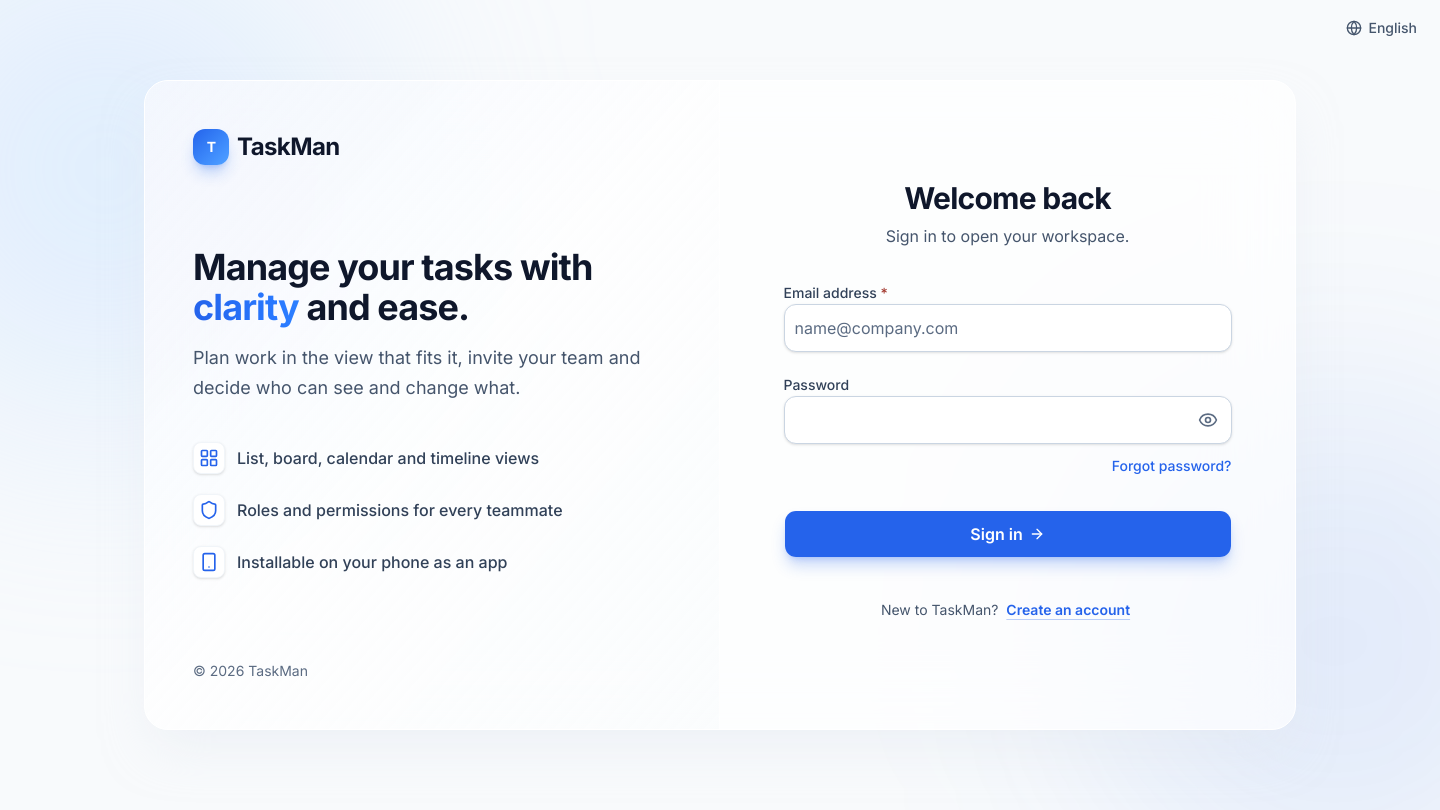
Test: AuthPage: second step › switches between the app code and a recovery code
The width and height of the screenshot is (1440, 810).
Type "ada@example.com" into the field labelled "Email address *". click: (1008, 328)
box: [784,304,1232,352]
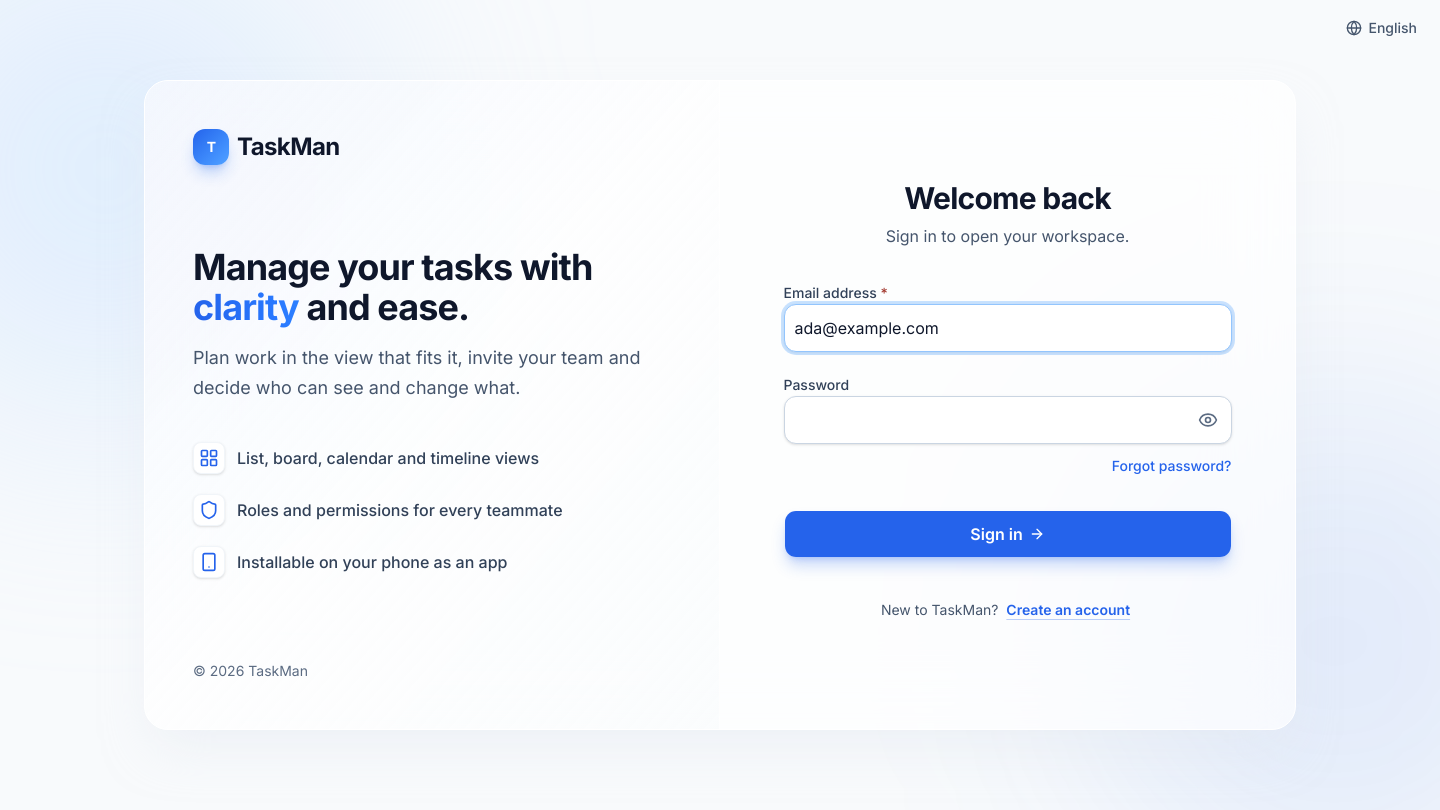
Type "analytical-engine" into the password field labelled "Password". click: (1008, 420)
box: [784,396,1232,444]
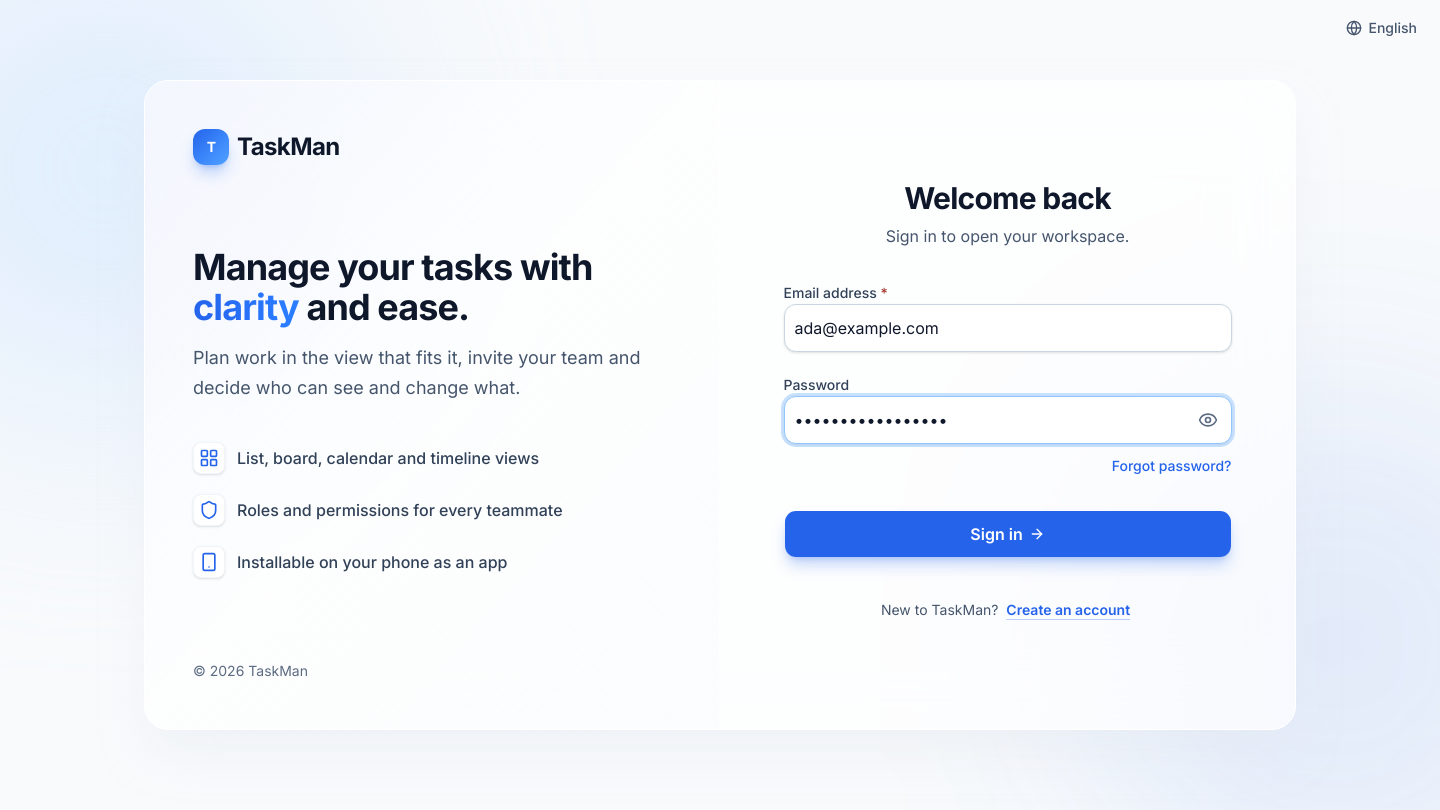
Click the button "Sign in". click: (1008, 534)
box: [784,510,1232,558]
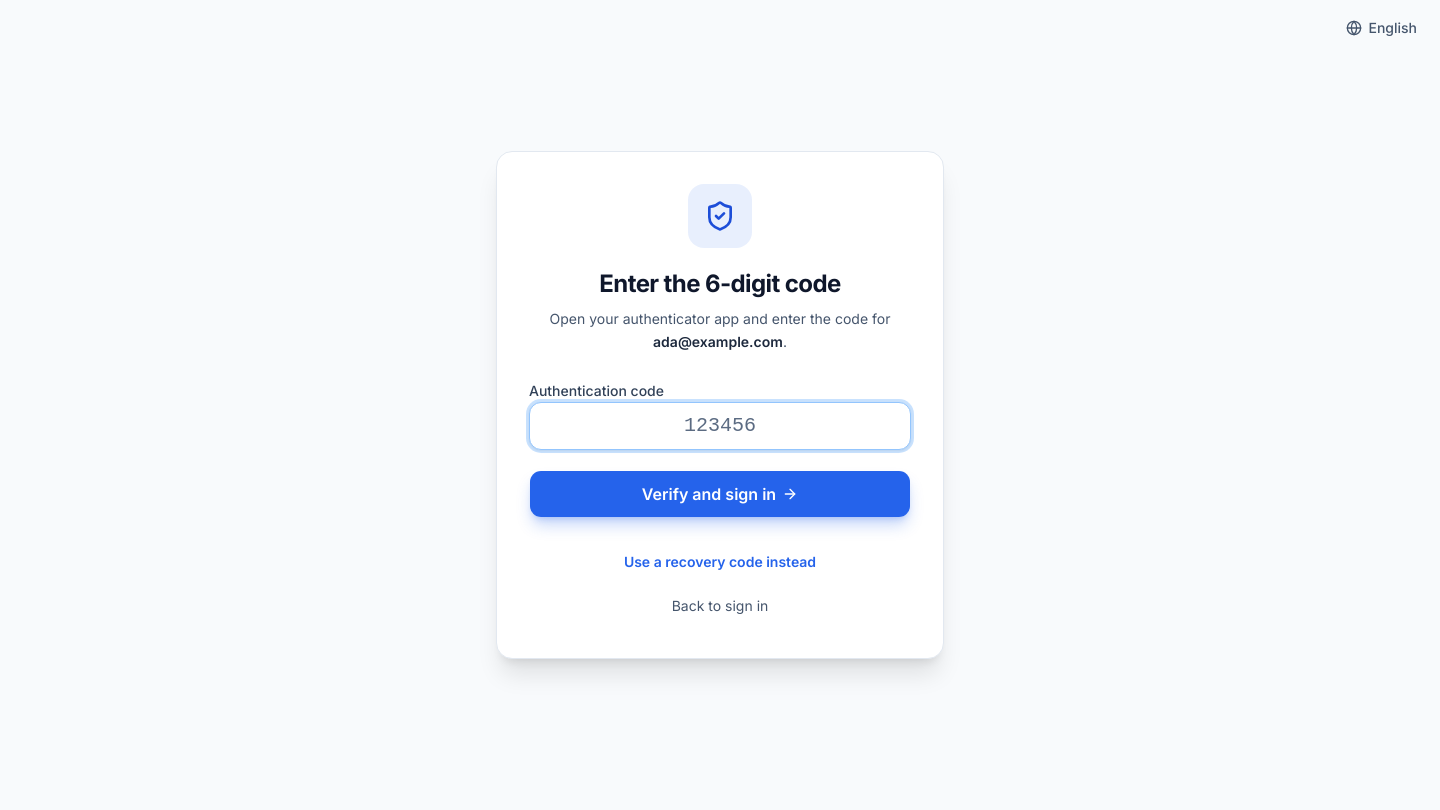
Click the button "Use a recovery code instead". click: (720, 562)
box: [616,542,824,582]
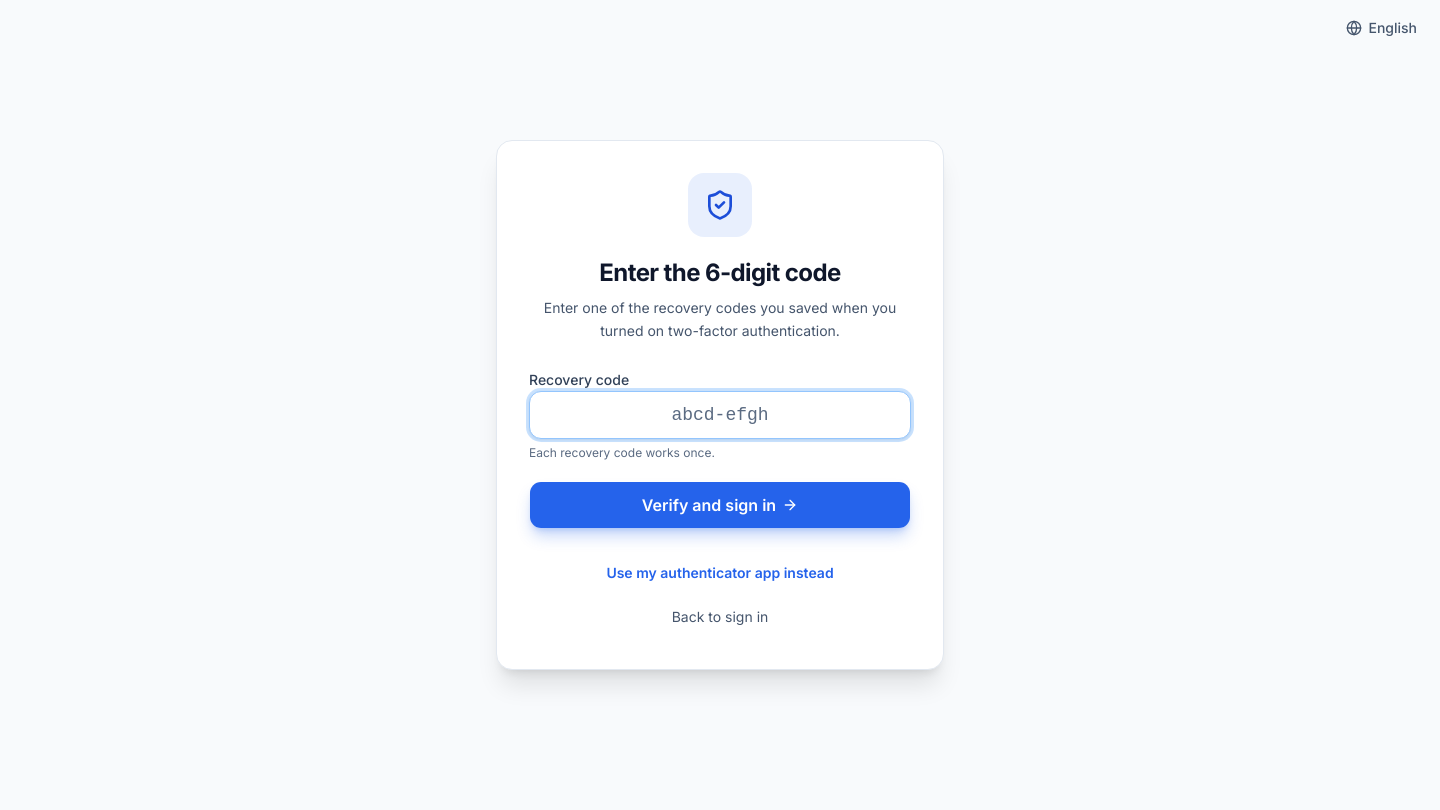
Expected: the field labelled "Recovery code" is shown, [529,391,911,439]
Click the button "Use my authenticator app instead". click: (720, 573)
box: [598,553,842,593]
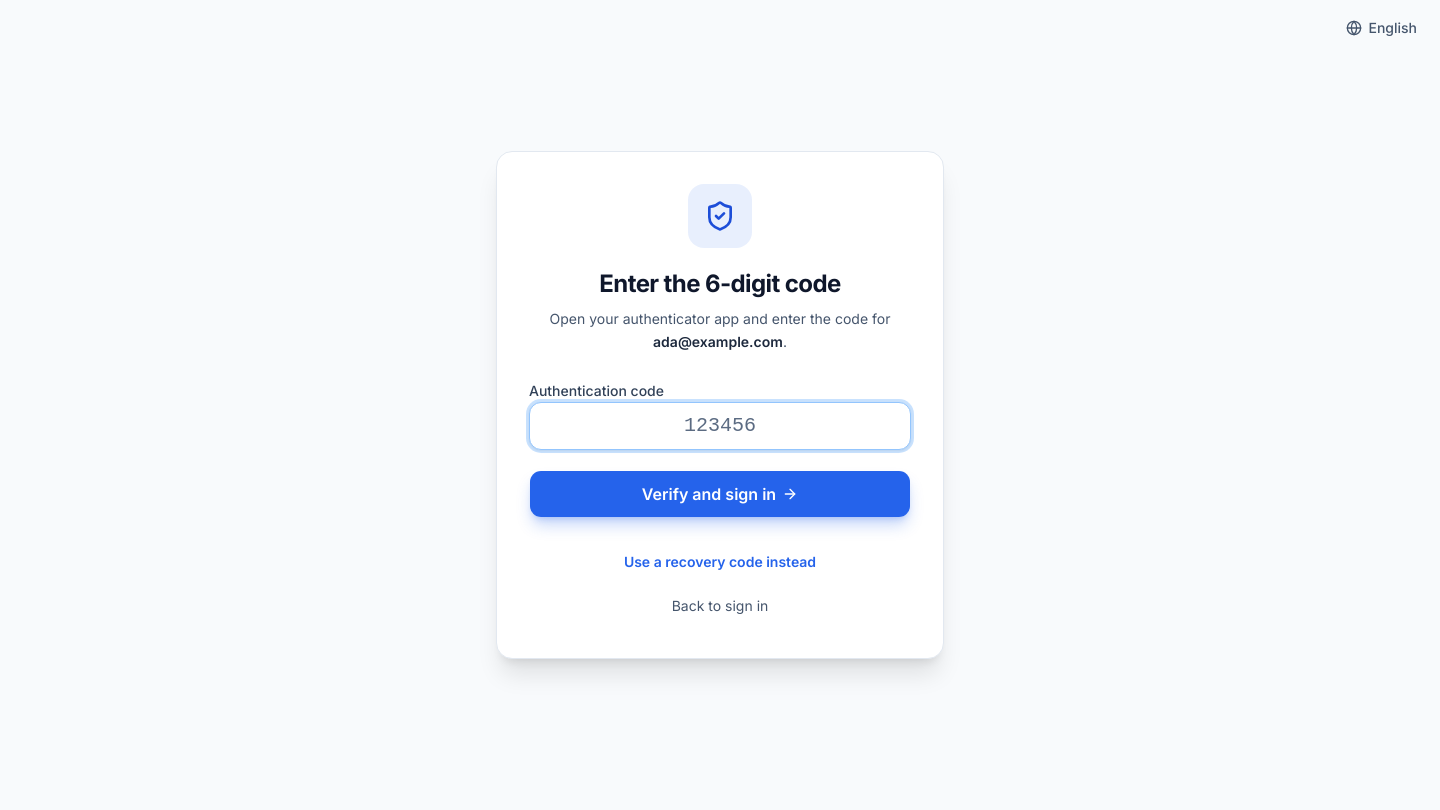
Expected: the field labelled "Authentication code" is shown, [529,402,911,450]
